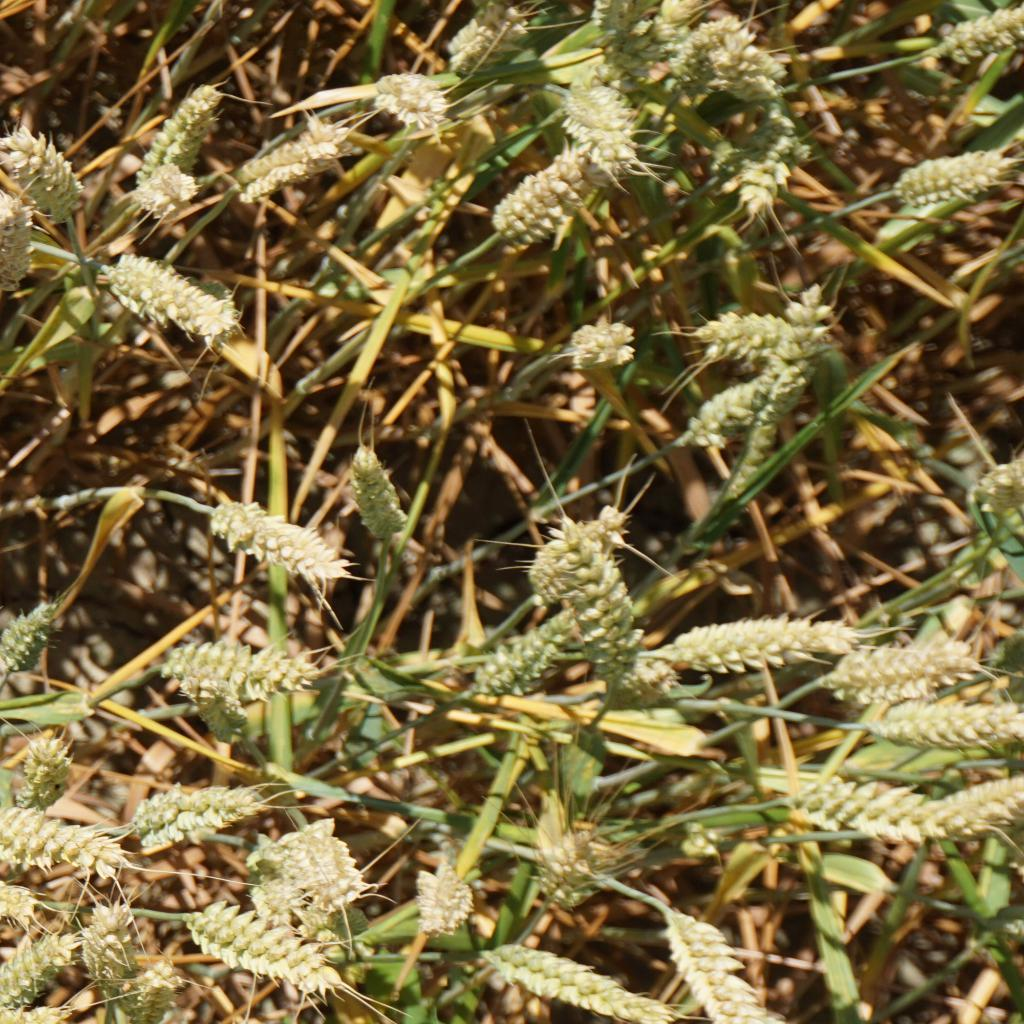0-0: (476, 926, 672, 1024), (669, 909, 802, 1024), (191, 900, 335, 998), (97, 259, 241, 348), (210, 498, 358, 583), (559, 549, 643, 675), (662, 605, 853, 659), (0, 122, 99, 223), (893, 140, 1018, 213), (534, 813, 627, 909), (873, 697, 1024, 755), (566, 80, 650, 181), (165, 643, 327, 695), (0, 803, 116, 875), (825, 641, 974, 697), (786, 780, 919, 841), (487, 163, 587, 244), (474, 610, 567, 693), (129, 82, 223, 163), (226, 130, 347, 190), (691, 298, 823, 352), (290, 826, 371, 913), (438, 3, 529, 76), (536, 510, 624, 585), (131, 782, 251, 836), (784, 269, 832, 404), (3, 722, 72, 815), (342, 442, 413, 531), (367, 64, 455, 133), (408, 863, 480, 942), (589, 0, 668, 71), (751, 109, 799, 220), (662, 26, 741, 92), (78, 898, 135, 988), (0, 595, 59, 680), (187, 677, 258, 747), (923, 777, 1024, 826), (685, 375, 769, 431), (936, 8, 1020, 64), (116, 956, 181, 1024), (0, 932, 67, 997), (244, 854, 312, 916), (0, 191, 39, 297), (560, 318, 636, 371), (132, 162, 192, 221), (973, 446, 1024, 509), (718, 48, 781, 98), (0, 873, 45, 926), (0, 1001, 60, 1024)
